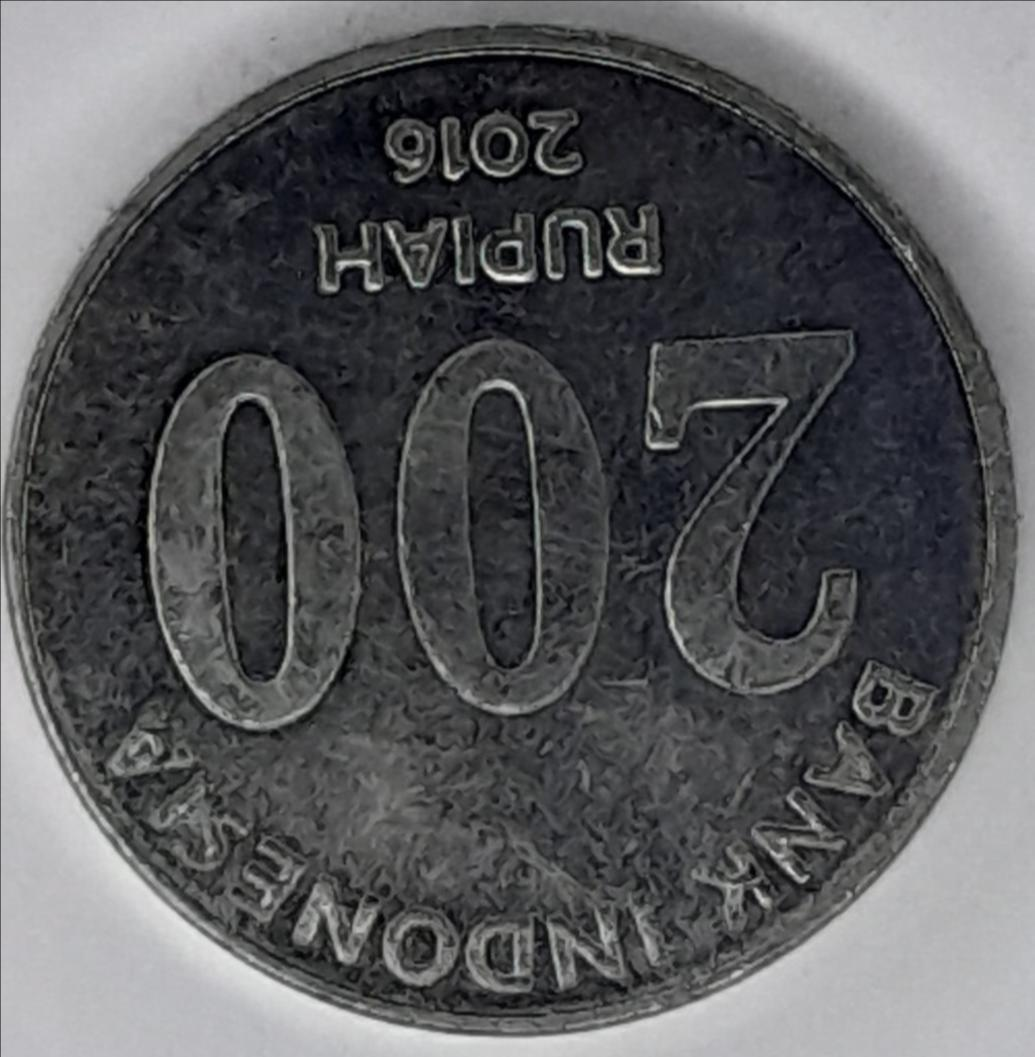coin_200_e2016: (0, 18, 1035, 1057)
